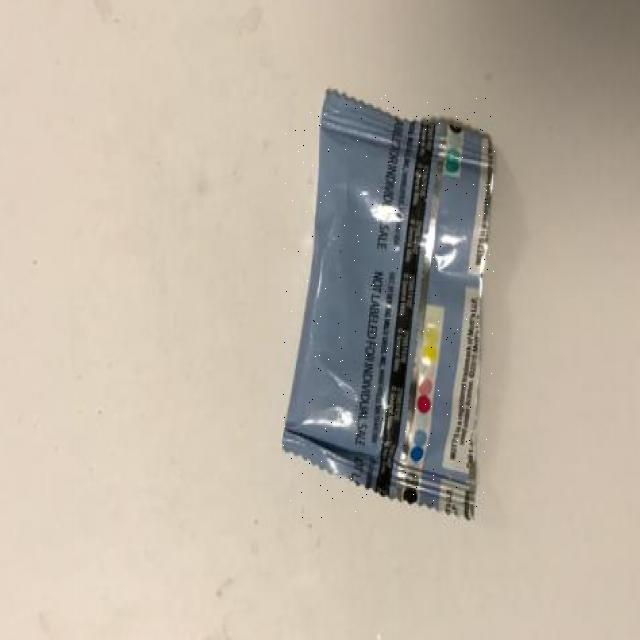wrapper: (283, 90, 495, 518)
